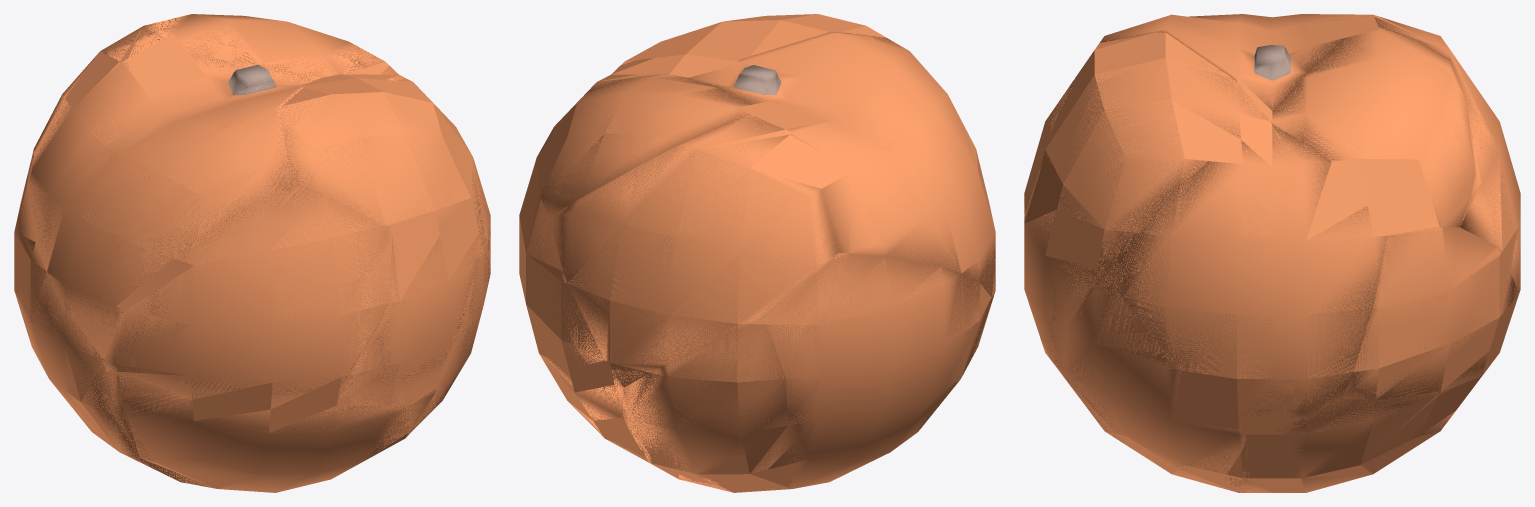
File: peach_fractured.fbx
3 renders of one model, left to right at view 1: azimuth 30°, elevation 25°; view 2: azimuth 150°, elevation 25°; view 3: azimuth 270°, elevation 25°, orthographic. The views are drawn at different scales.
Visible parts, largest first — view 1: peach_Roundcube.006, peach_Roundcube.006_shard.009, peach_Roundcube.006_shard.008, peach_Roundcube.006_shard.011, peach_Roundcube.006_shard.013, peach_Roundcube.006_shard.001, peach_Roundcube.006_shard.006, peach_Roundcube.006_shard.002, peach_Roundcube.006_shard.010, peach_Roundcube.006_shard.004, peach_Roundcube.006_shard.007, peach_Roundcube.006_shard; view 2: peach_Roundcube.006, peach_Roundcube.006_shard.004, peach_Roundcube.006_shard.009, peach_Roundcube.006_shard.006, peach_Roundcube.006_shard.014, peach_Roundcube.006_shard.002, peach_Roundcube.006_shard.012, peach_Roundcube.006_shard.003, peach_Roundcube.006_shard.007; view 3: peach_Roundcube.006, peach_Roundcube.006_shard.007, peach_Roundcube.006_shard.002, peach_Roundcube.006_shard.013, peach_Roundcube.006_shard.012, peach_Roundcube.006_shard.010, peach_Roundcube.006_shard.009, peach_Roundcube.006_shard.004, peach_Roundcube.006_shard.005, peach_Roundcube.006_shard.001, peach_Roundcube.006_shard, peach_Roundcube.006_shard.003.
Part boxes in pixels (x1,y1,x2,y2): peach_Roundcube.006: [14, 27, 490, 489]; peach_Roundcube.006_shard.009: [28, 55, 321, 358]; peach_Roundcube.006_shard.008: [103, 185, 391, 409]; peach_Roundcube.006_shard.011: [107, 368, 411, 492]; peach_Roundcube.006_shard.013: [282, 92, 480, 233]; peach_Roundcube.006_shard.001: [337, 233, 481, 406]; peach_Roundcube.006_shard.006: [14, 153, 179, 481]; peach_Roundcube.006_shard.002: [158, 14, 366, 77]; peach_Roundcube.006_shard.010: [424, 234, 490, 418]; peach_Roundcube.006_shard.004: [32, 21, 161, 154]; peach_Roundcube.006_shard.007: [347, 51, 490, 256]; peach_Roundcube.006_shard: [102, 359, 436, 435]; peach_Roundcube.006: [519, 14, 995, 492]; peach_Roundcube.006_shard.004: [550, 114, 838, 386]; peach_Roundcube.006_shard.009: [688, 32, 995, 296]; peach_Roundcube.006_shard.006: [694, 253, 991, 492]; peach_Roundcube.006_shard.014: [624, 324, 787, 484]; peach_Roundcube.006_shard.002: [540, 73, 751, 217]; peach_Roundcube.006_shard.012: [526, 196, 622, 386]; peach_Roundcube.006_shard.003: [539, 354, 644, 450]; peach_Roundcube.006_shard.007: [530, 58, 659, 177]; peach_Roundcube.006: [1024, 14, 1520, 492]; peach_Roundcube.006_shard.007: [1107, 127, 1386, 433]; peach_Roundcube.006_shard.002: [1271, 25, 1475, 227]; peach_Roundcube.006_shard.013: [1045, 58, 1268, 274]; peach_Roundcube.006_shard.012: [1342, 227, 1518, 400]; peach_Roundcube.006_shard.010: [1062, 277, 1247, 474]; peach_Roundcube.006_shard.009: [1100, 14, 1373, 110]; peach_Roundcube.006_shard.004: [1374, 16, 1520, 291]; peach_Roundcube.006_shard.005: [1221, 392, 1455, 492]; peach_Roundcube.006_shard.001: [1024, 162, 1106, 370]; peach_Roundcube.006_shard: [1052, 360, 1237, 492]; peach_Roundcube.006_shard.003: [1438, 351, 1489, 394].
Size of the model in its own units: 980 by 922 by 980.
